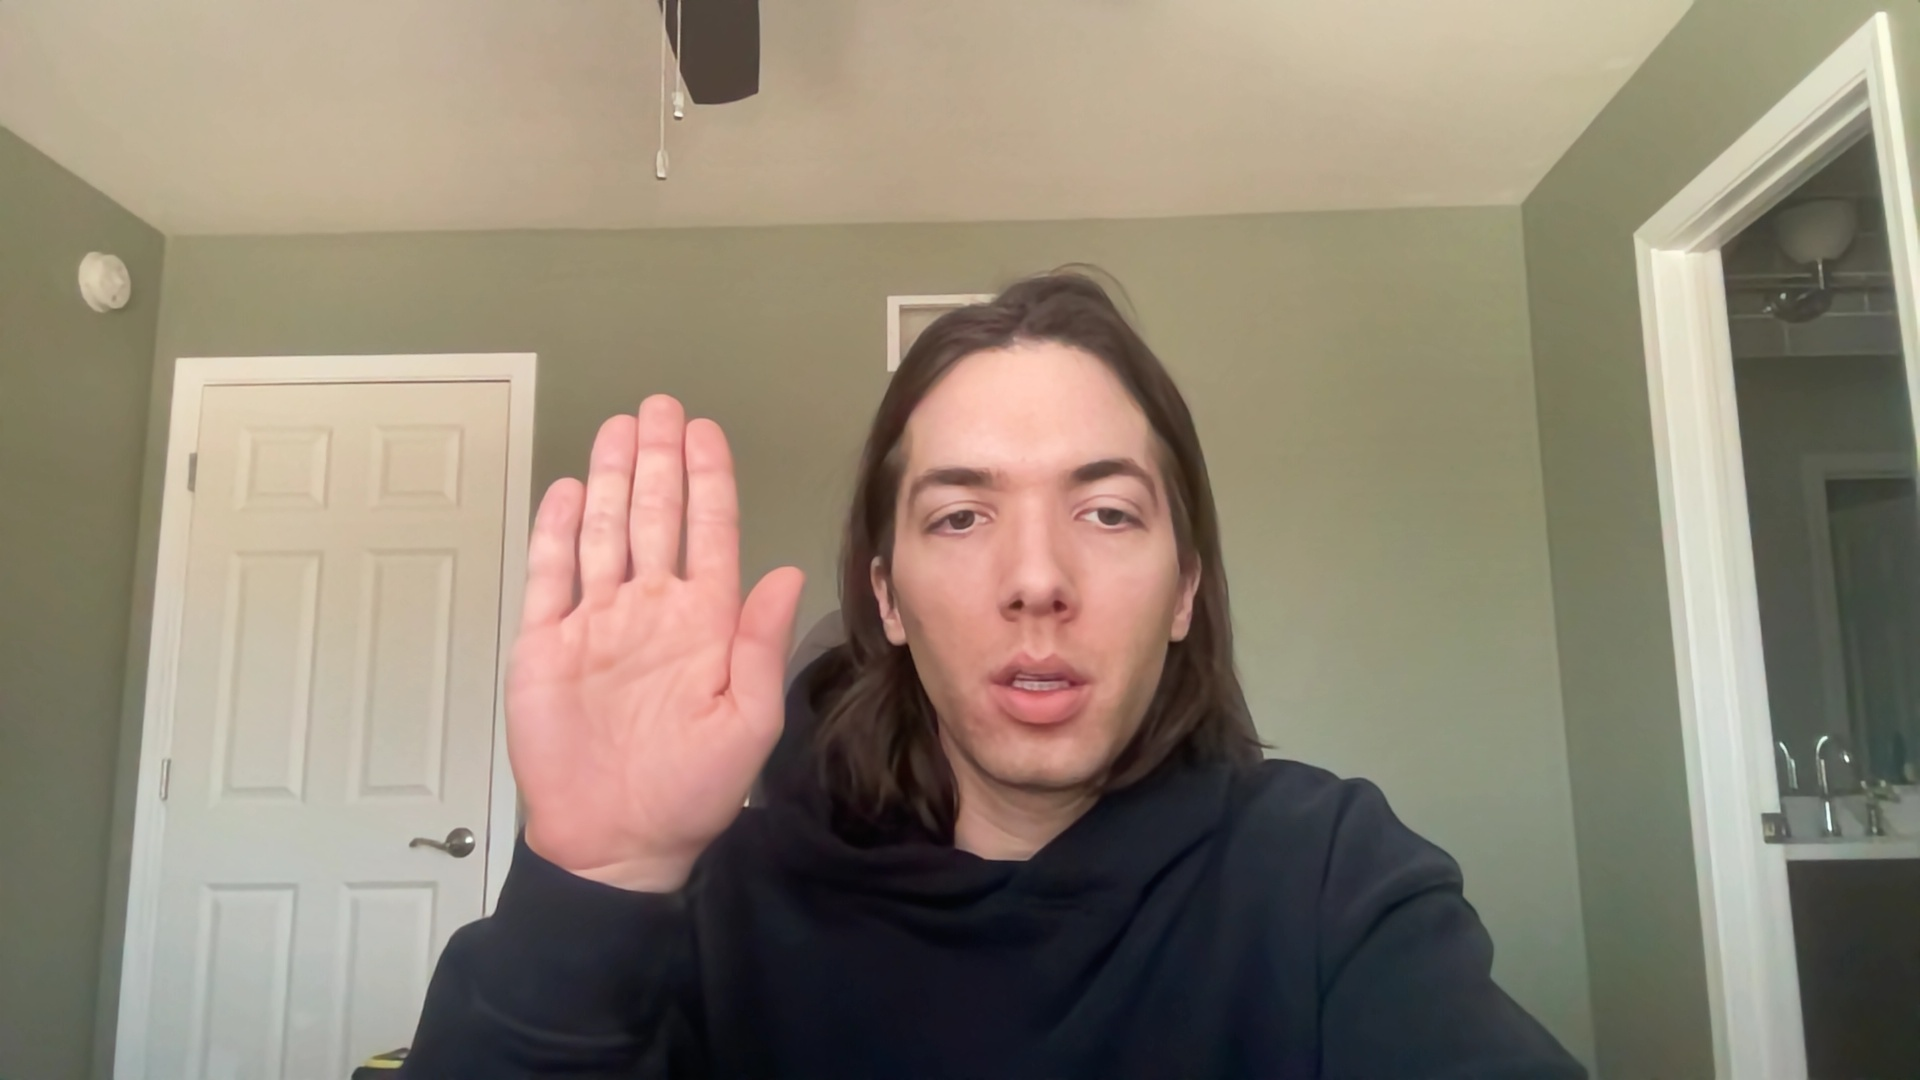Hello: (484, 381, 819, 920)
